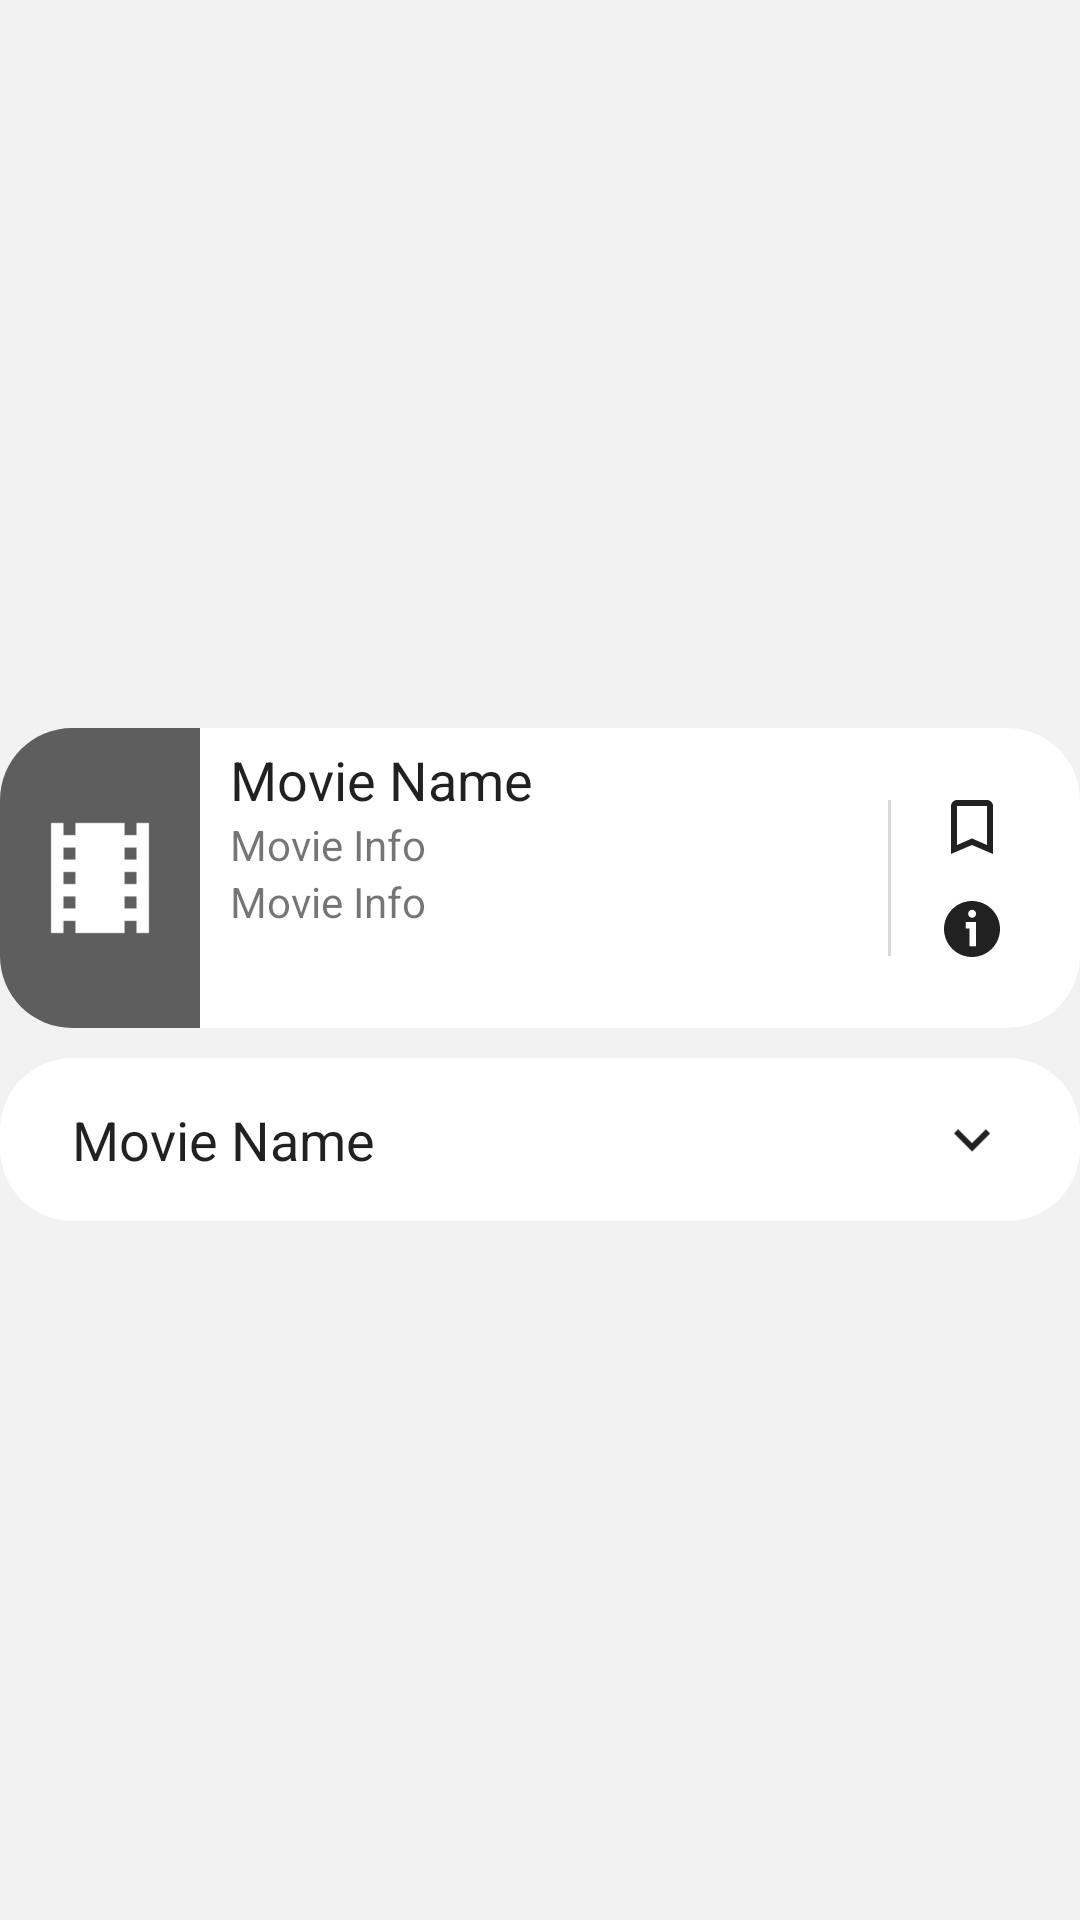

Screen size 1080 × 1920. Icon name, then its center in pixels as [x,y]:
arrow down: [972,1140]
bookmark: [972,827]
